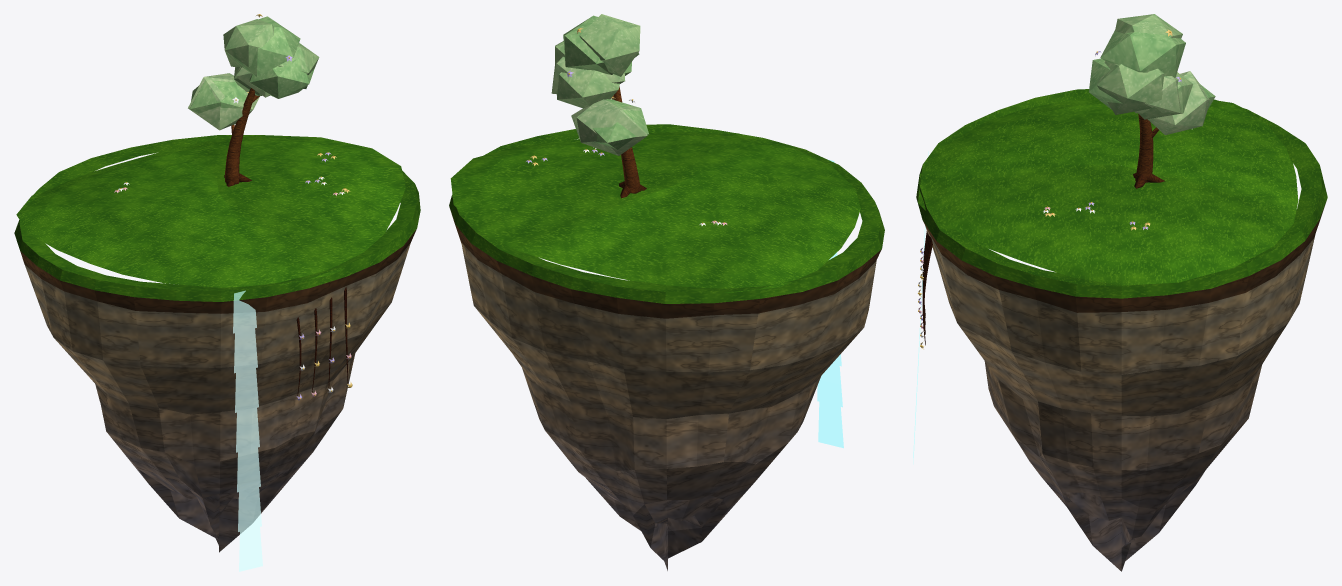
Rendered from islet_garden_falls.glb.
3 renders of one model, left to right at view 1: azimuth 30°, elevation 25°; view 2: azimuth 150°, elevation 25°; view 3: azimuth 270°, elevation 25°, orthographic. The views are drawn at different scales.
Parts seen in each view (by area): view 1: islet_garden_falls; view 2: islet_garden_falls; view 3: islet_garden_falls.
Boxes of the visible parts, x1,y1,x2,y2 form: islet_garden_falls: (14,14,420,571); islet_garden_falls: (449,14,884,570); islet_garden_falls: (913,14,1327,571).
Size of the model in its own units: 12.73 by 17.03 by 11.07.
6 materials, 4 textured.
